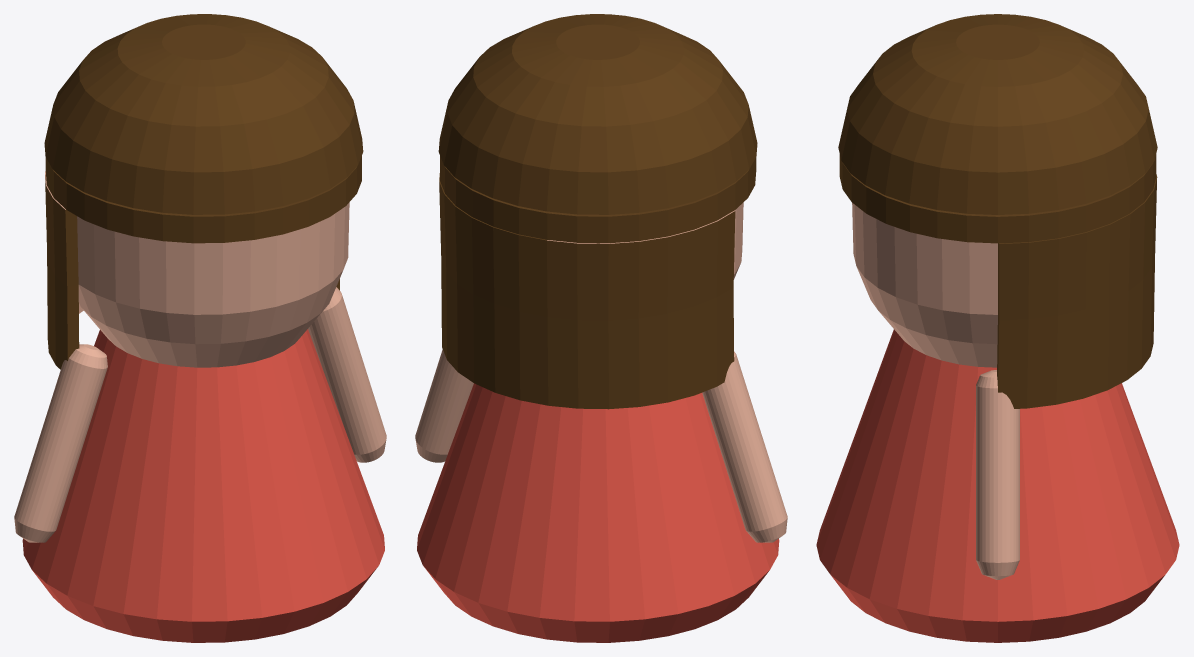
The model's file is Ona.fbx.
3 renders of one model, left to right at view 1: azimuth 30°, elevation 25°; view 2: azimuth 150°, elevation 25°; view 3: azimuth 270°, elevation 25°, orthographic.
Parts seen in each view (by area): view 1: Ona; view 2: Ona; view 3: Ona.
Boxes of the visible parts, left/top/right/bottom form: Ona: left=14, top=14, right=386, bottom=642; Ona: left=415, top=14, right=787, bottom=642; Ona: left=816, top=14, right=1179, bottom=642.
Size of the model in its own units: 120 by 168 by 103.
